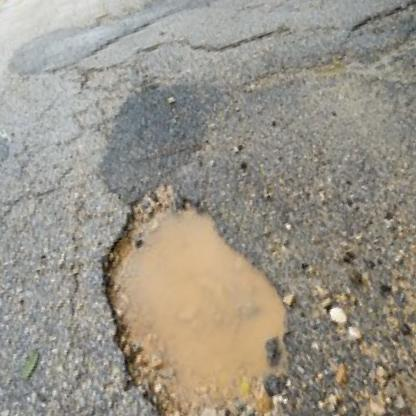pothole: (64, 158, 333, 416)
